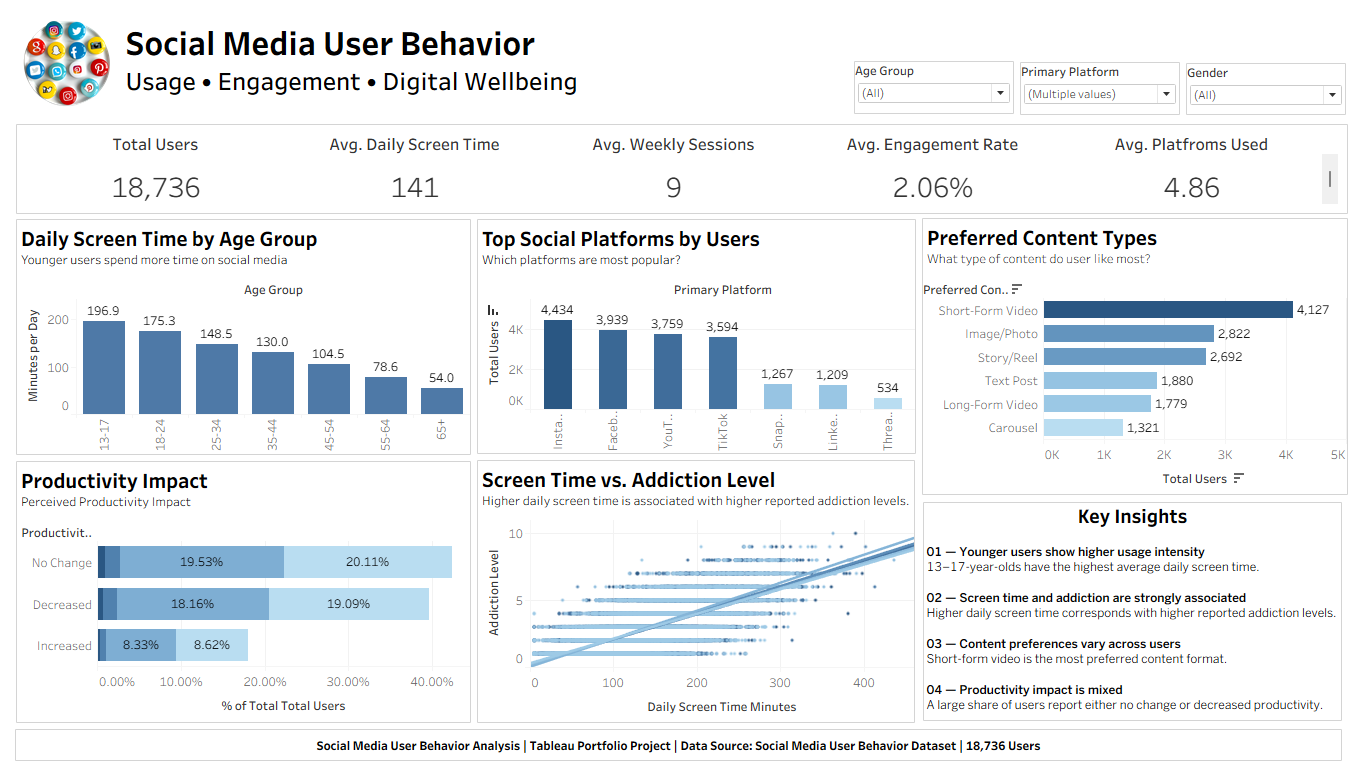

The page's visual inventory and layout, read from the dashboard file:
{"tool":"tableau","page":{"name":"Dashboard","canvas":[1366,768],"ordinal":0},"visuals":[{"type":"text","box":[128,15,489,91]},{"type":"image","param":"C:/Users/User/Desktop/Data Analysis Dashboard/Data set/Social Media and user Beh","box":[25,18,108,92]},{"type":"filter","title":"Average Daily Screen Time by Age Group","param":"[federated.0zkog790lhe7v01br2wys17nwynq].[none:age_group:nk]","box":[859,62,160,53]},{"type":"filter","title":"Users by Platform","param":"[federated.0zkog790lhe7v01br2wys17nwynq].[none:primary_platform:nk]","box":[1025,63,160,53]},{"type":"filter","title":"Productivity Impact","param":"[federated.0zkog790lhe7v01br2wys17nwynq].[none:gender:nk]","box":[1191,64,160,52]},{"type":"worksheet","title":"KPIs","mark":"Automatic","box":[21,125,1332,90]},{"type":"worksheet","title":"Preferred Content Type","mark":"Automatic","rows":["preferred_content_type"],"cols":["Calculation_0793341167194112"],"box":[927,219,426,277]},{"type":"worksheet","title":"Average Daily Screen Time by Age Group","mark":"Automatic","rows":["Calculation_0793341176545282"],"cols":["age_group"],"box":[21,220,455,236]},{"type":"worksheet","title":"Users by Platform","mark":"Automatic","rows":["Calculation_0793341167194112"],"cols":["primary_platform"],"box":[482,220,439,235]},{"type":"worksheet","title":"Screen Time vs Addiction","mark":"Circle","rows":["addiction_level_1_to_10"],"cols":["daily_screen_time_minutes"],"box":[482,461,438,263]},{"type":"worksheet","title":"Productivity Impact","mark":"Automatic","rows":["productivity_impact"],"cols":["Calculation_0793341167194112"],"box":[21,462,455,262]},{"type":"text","box":[928,503,419,219]},{"type":"text","box":[20,730,1327,32]}]}

Visuals, with their boxes in screenshot pixels (x1, y1, x2, y2), scaled from the page's 1366x768 canvas onto the 1359x763 screenshot:
text: locate(127, 15, 614, 105)
image: locate(25, 18, 132, 109)
"Average Daily Screen Time by Age Group" filter: locate(855, 62, 1014, 114)
"Users by Platform" filter: locate(1020, 63, 1179, 115)
"Productivity Impact" filter: locate(1185, 64, 1344, 115)
"KPIs" worksheet: locate(21, 124, 1346, 214)
"Preferred Content Type" worksheet: locate(922, 218, 1346, 493)
"Average Daily Screen Time by Age Group" worksheet: locate(21, 219, 474, 453)
"Users by Platform" worksheet: locate(480, 219, 916, 452)
"Screen Time vs Addiction" worksheet (Circle marks): locate(480, 458, 915, 719)
"Productivity Impact" worksheet: locate(21, 459, 474, 719)
text: locate(923, 500, 1340, 717)
text: locate(20, 725, 1340, 757)
